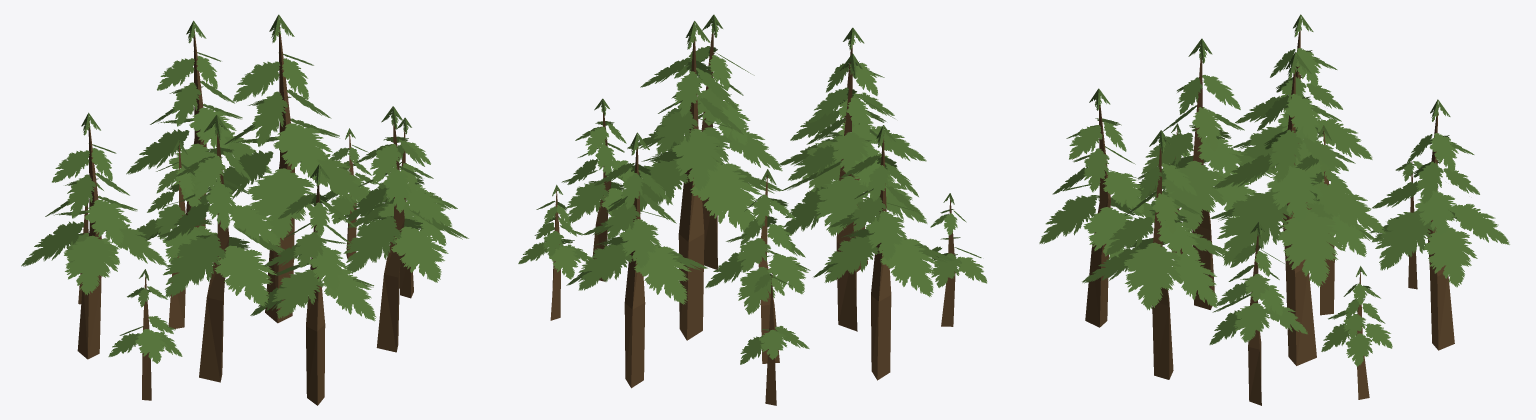
Rendered from Tree01.FBX.
3 renders of one model, left to right at view 1: azimuth 30°, elevation 25°; view 2: azimuth 150°, elevation 25°; view 3: azimuth 270°, elevation 25°, orthographic. The views are drawn at different scales.
Parts seen in each view (by area): view 1: Tree01; view 2: Tree01; view 3: Tree01.
Boxes of the visible parts, box(x1,y1,x2,y2) form: Tree01: box(21, 14, 468, 405); Tree01: box(518, 14, 987, 405); Tree01: box(1039, 14, 1509, 405).
Bounding box in the file's own units: 41.61 × 29.15 × 42.54.
Materials: 1 (1 with a texture image).
